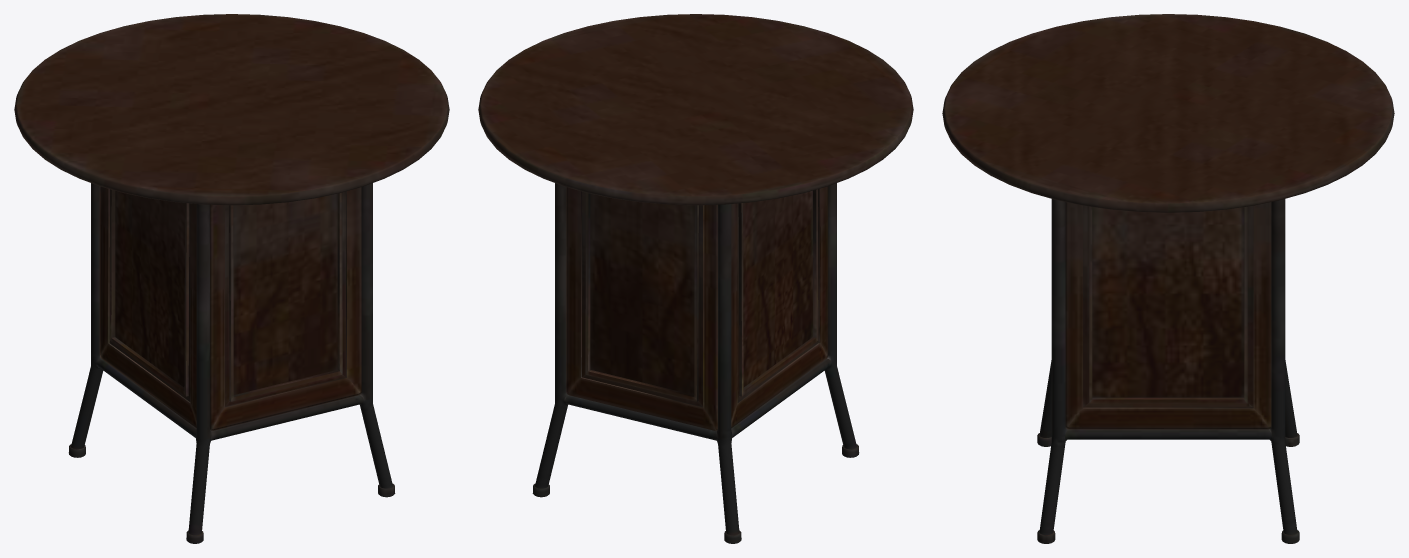
3 renders of one model, left to right at view 1: azimuth 30°, elevation 25°; view 2: azimuth 150°, elevation 25°; view 3: azimuth 270°, elevation 25°, orthographic. The views are drawn at different scales.
Parts seen in each view (by area): view 1: round_wooden_table_02; view 2: round_wooden_table_02; view 3: round_wooden_table_02.
Boxes of the visible parts, x1=… form: round_wooden_table_02: x1=14, y1=14, x2=449, y2=543; round_wooden_table_02: x1=478, y1=14, x2=913, y2=543; round_wooden_table_02: x1=942, y1=14, x2=1394, y2=543.
Bounding box in the file's own units: 0.7962 × 0.746 × 0.7962.
Materials: 1 (1 with a texture image).
